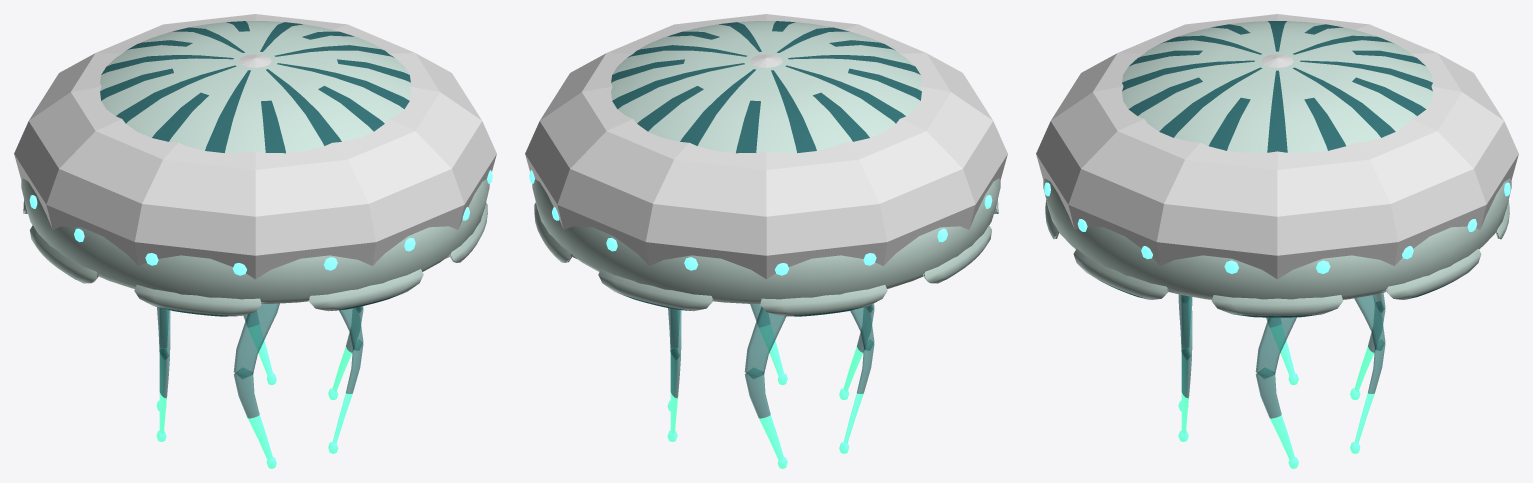
Rendered from grazer.glb.
3 views of the same model, side by side, from view 1: azimuth 30°, elevation 25°; view 2: azimuth 150°, elevation 25°; view 3: azimuth 270°, elevation 25° (orthographic).
Parts seen in each view (by area): view 1: COL_bell, bell, rim_5, rim_4, frond_3_b, frond_3_c, rim_6, frond_2_c, frond_1_c, frond_4_c, frond_0_c, rim_3 (+3 smaller); view 2: COL_bell, bell, rim_7, rim_0, frond_5_b, frond_5_c, rim_6, frond_4_c, frond_2_c, frond_3_c, frond_0_c, rim_1 (+3 smaller); view 3: COL_bell, bell, rim_2, rim_1, rim_3, frond_1_b, frond_1_c, frond_0_c, frond_5_c, frond_0_b, frond_2_b, frond_2_c (+2 smaller).
Part boxes in pixels (x1,y1,x2,y2): COL_bell: (14,14,496,303); bell: (21,21,492,303); rim_5: (134,285,261,316); rim_4: (308,269,423,311); frond_3_b: (233,303,279,378); frond_3_c: (233,368,276,468); rim_6: (30,225,98,283); frond_2_c: (328,340,363,453); frond_1_c: (328,307,363,400); frond_4_c: (156,349,169,441); frond_0_c: (243,311,276,385); rim_3: (449,202,487,262); COL_bell: (525,14,1007,303); bell: (529,21,1000,303); rim_7: (760,285,887,316); rim_0: (598,269,713,311); frond_5_b: (744,306,786,378); frond_5_c: (744,368,787,468); rim_6: (923,225,991,283); frond_4_c: (839,340,874,453); frond_2_c: (750,304,787,385); frond_3_c: (839,305,874,399); frond_0_c: (667,349,680,441); rim_1: (534,202,572,262); COL_bell: (1036,14,1518,292); bell: (1043,21,1511,299); rim_2: (1211,295,1343,317); rim_1: (1386,248,1481,299); rim_3: (1073,248,1168,299); frond_1_b: (1255,317,1296,378); frond_1_c: (1255,368,1298,468); frond_0_c: (1350,340,1385,453); frond_5_c: (1350,301,1385,400); frond_0_b: (1354,295,1385,350); frond_2_b: (1178,294,1192,359); frond_2_c: (1178,349,1191,441).
Bounding box in the file's own units: 3.2 × 2.7 × 3.2.
